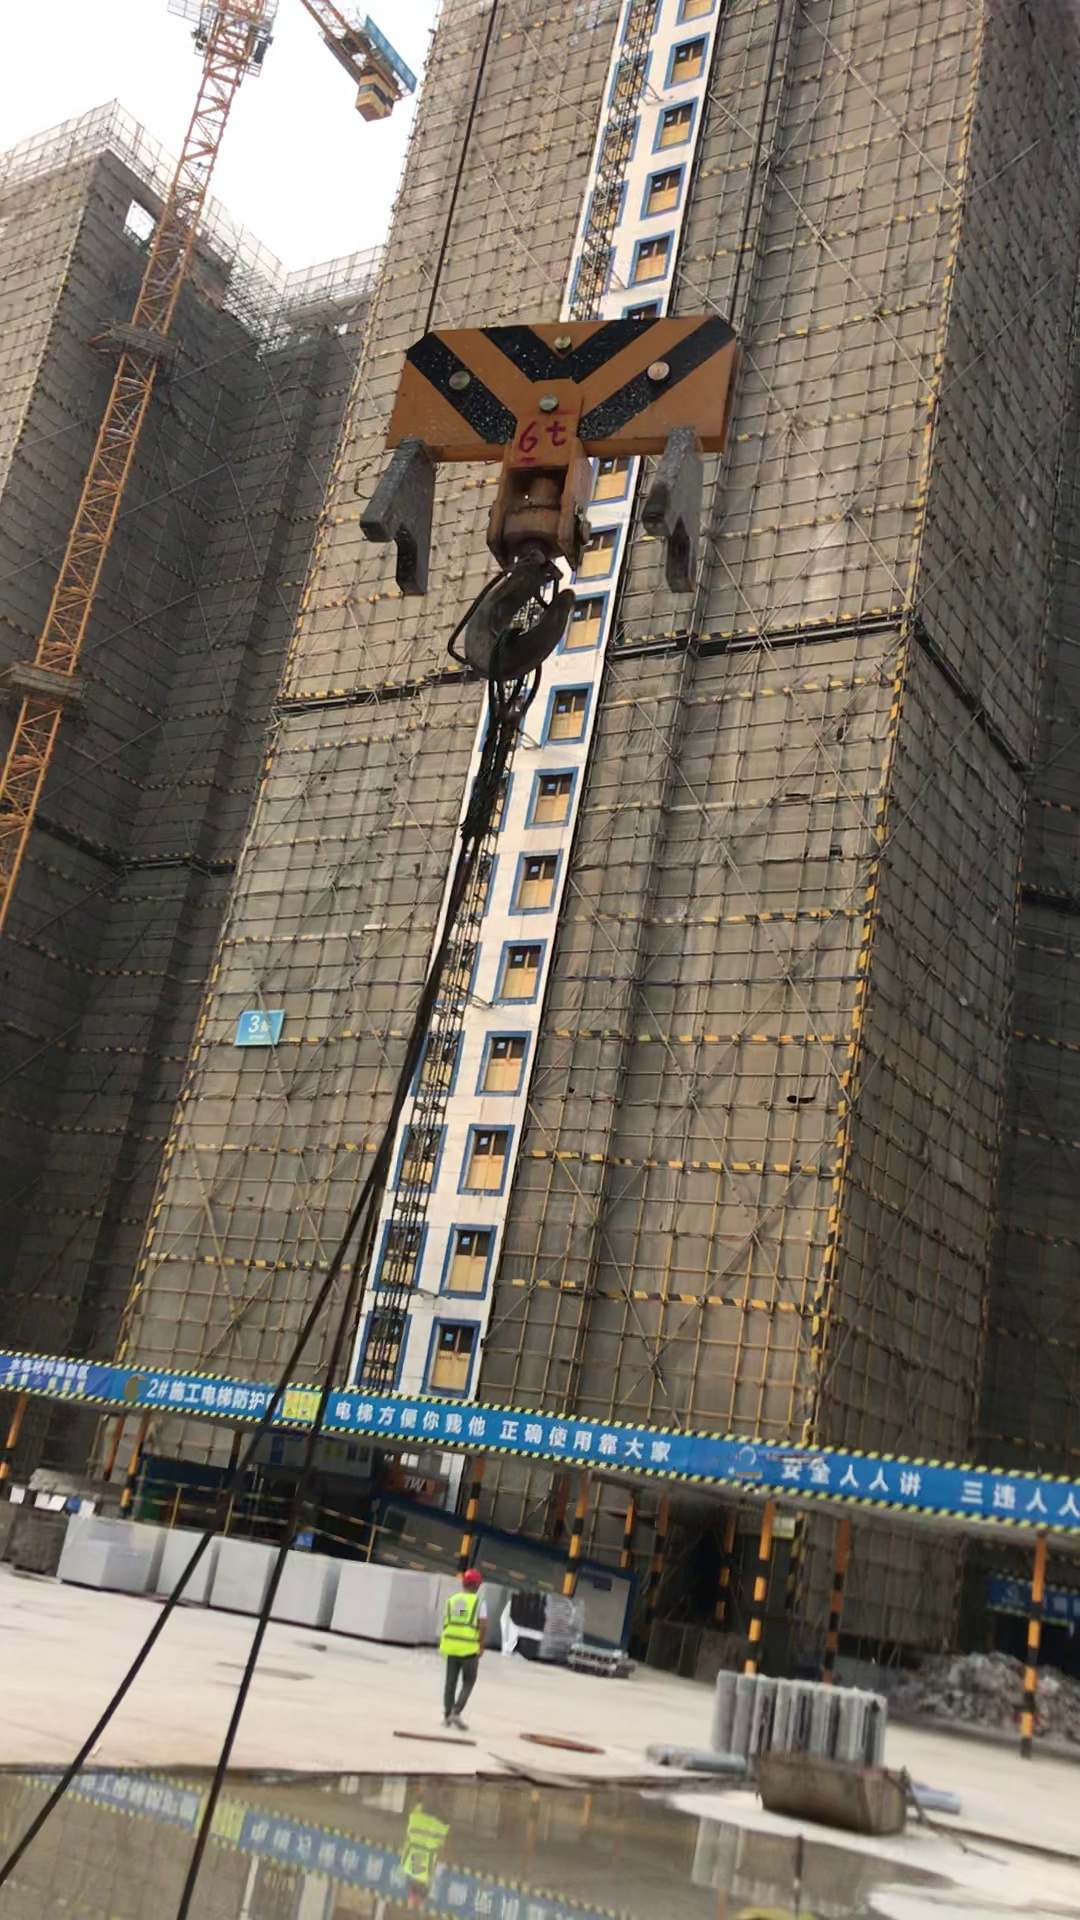brick: (334, 1539, 427, 1651), (61, 1511, 170, 1589), (205, 1540, 289, 1615), (272, 1546, 347, 1622), (152, 1531, 220, 1606)
helmet: (460, 1567, 483, 1588)
hook: (322, 267, 736, 661)
hopper: (746, 1733, 912, 1831)
person: (435, 1561, 487, 1737)
slogan: (5, 1353, 1080, 1538)
vest: (443, 1594, 487, 1657)
